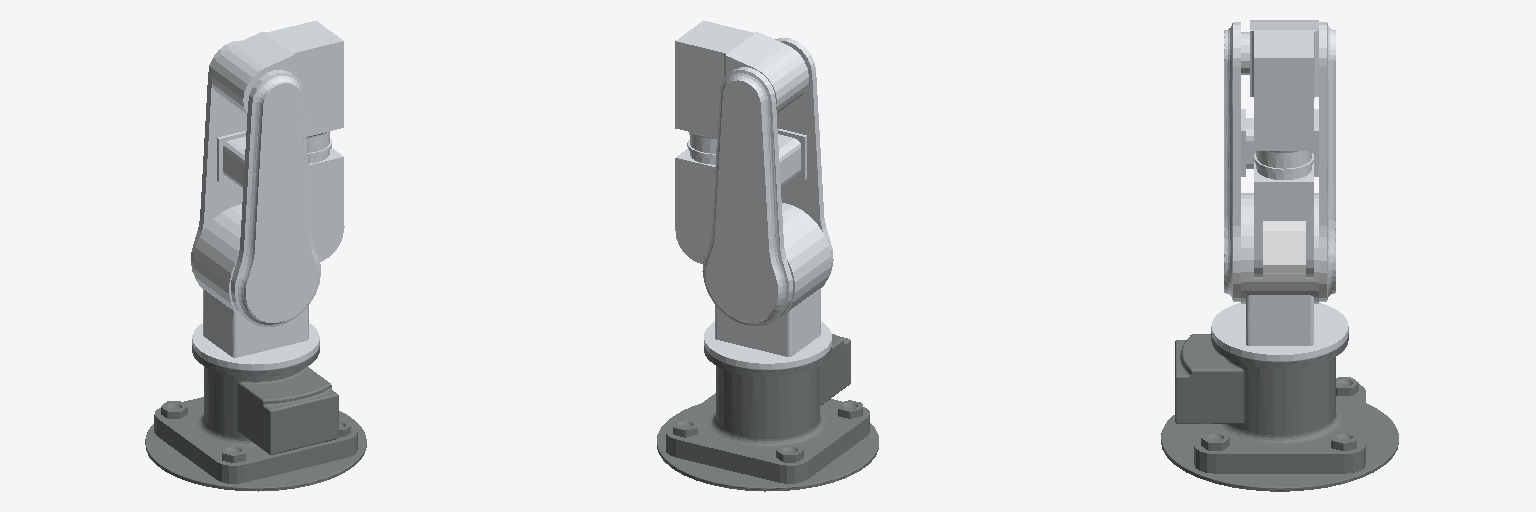
URDF robot description (assembly):
<?xml version="1.0" encoding="utf-8"?>
<!-- This URDF was automatically created by SolidWorks to URDF Exporter! Originally created by [author] ([email redacted]) 
     Commit Version: 1.6.0-4-g7f85cfe  Build Version: 1.6.7995.38578
     For more information, please see http://wiki.ros.org/sw_urdf_exporter -->
<robot
  name="assembly">
  <link name="world"/>
    <joint name="base_joint" type="fixed">
    <parent link="world"/>
    <child link="base_link"/>
    <origin rpy="0 0 0" xyz="0.0 0.0 0.17"/>
  </joint>
  <link
    name="base_link">
    <inertial>
      <origin
        xyz="7.28821085427267E-09 -0.0312986108746524 0.0932096931732312"
        rpy="0 0 0" />
      <mass
        value="156.384128910965" />
      <inertia
        ixx="3.31161275817224"
        ixy="1.76037861498254E-07"
        ixz="4.56149719410909E-07"
        iyy="2.65331734095352"
        iyz="0.319657739922467"
        izz="3.8905939609168" />
    </inertial>
    <visual>
      <origin
        xyz="0 0 0"
        rpy="0 0 0" />
      <geometry>
        <mesh
          filename="package://assembly/meshes/base_link.STL" />
      </geometry>
      <material
        name="">
        <color
          rgba="0.529411764705882 0.549019607843137 0.549019607843137 1" />
      </material>
    </visual>
    <collision>
      <origin
        xyz="0 0 0"
        rpy="0 0 0" />
      <geometry>
        <mesh
          filename="package://assembly/meshes/base_link.STL" />
      </geometry>
    </collision>
  </link>
  <link
    name="link_1">
    <inertial>
      <origin
        xyz="1.56254648109311E-10 -7.8860200028437E-16 0.373075746734315"
        rpy="0 0 0" />
      <mass
        value="39.1896246119642" />
      <inertia
        ixx="0.759744390185537"
        ixy="-3.39614758921302E-09"
        ixz="3.42502037078622E-09"
        iyy="0.831766902274228"
        iyz="-5.07622894875523E-17"
        izz="0.295622833052641" />
    </inertial>
    <visual>
      <origin
        xyz="0 0 0"
        rpy="0 0 0" />
      <geometry>
        <mesh
          filename="package://assembly/meshes/link_1.STL" />
      </geometry>
      <material
        name="">
        <color
          rgba="0.898039215686275 0.917647058823529 0.929411764705882 1" />
      </material>
    </visual>
    <collision>
      <origin
        xyz="0 0 0"
        rpy="0 0 0" />
      <geometry>
        <mesh
          filename="package://assembly/meshes/link_1.STL" />
      </geometry>
    </collision>
  </link>
  <joint
    name="joint_1"
    type="revolute">
    <origin
      xyz="0 0 0"
      rpy="0 0 0" />
    <parent
      link="base_link" />
    <child
      link="link_1" />
    <axis
      xyz="0 0 1" />
    <limit
      lower="-3.142"
      upper="3.142"
      effort="300"
      velocity="3" />
  </joint>
  <link
    name="link_2">
    <inertial>
      <origin
        xyz="0 0.191560014270782 -4.38296331717335E-18"
        rpy="0 0 0" />
      <mass
        value="41.7432461481157" />
      <inertia
        ixx="1.9310205220817"
        ixy="-1.83315611639491E-16"
        ixz="4.05786478180328E-12"
        iyy="0.423793811309006"
        iyz="7.07949256278302E-17"
        izz="1.67596873799866" />
    </inertial>
    <visual>
      <origin
        xyz="0 0 0"
        rpy="0 0 0" />
      <geometry>
        <mesh
          filename="package://assembly/meshes/link_2.STL" />
      </geometry>
      <material
        name="">
        <color
          rgba="0.898039215686275 0.917647058823529 0.929411764705882 1" />
      </material>
    </visual>
    <collision>
      <origin
        xyz="0 0 0"
        rpy="0 0 0" />
      <geometry>
        <mesh
          filename="package://assembly/meshes/link_2.STL" />
      </geometry>
    </collision>
  </link>
  <joint
    name="joint_2"
    type="revolute">
    <origin
      xyz="0 0 0.496"
      rpy="1.5708 0 0" />
    <parent
      link="link_1" />
    <child
      link="link_2" />
    <axis
      xyz="0 0 1" />
    <limit
      lower="-1.57"
      upper="1.57"
      effort="200"
      velocity="3" />
  </joint>
  <link
    name="link_3">
    <inertial>
      <origin
        xyz="0.121182198441889 -0.136185998839769 -0.0100000000304142"
        rpy="0 0 0" />
      <mass
        value="32.5621952947336" />
      <inertia
        ixx="0.913688737120272"
        ixy="0.107723690437499"
        ixz="-1.2469518478925E-09"
        iyy="0.203128735188212"
        iyz="-2.19257304101205E-11"
        izz="1.00099194800661" />
    </inertial>
    <visual>
      <origin
        xyz="0 0 0"
        rpy="0 0 0" />
      <geometry>
        <mesh
          filename="package://assembly/meshes/link_3.STL" />
      </geometry>
      <material
        name="">
        <color
          rgba="0.898039215686275 0.917647058823529 0.929411764705882 1" />
      </material>
    </visual>
    <collision>
      <origin
        xyz="0 0 0"
        rpy="0 0 0" />
      <geometry>
        <mesh
          filename="package://assembly/meshes/link_3.STL" />
      </geometry>
    </collision>
  </link>
  <joint
    name="joint_3"
    type="revolute">
    <origin
      xyz="0 0.5 0"
      rpy="0 0 0" />
    <parent
      link="link_2" />
    <child
      link="link_3" />
    <axis
      xyz="0 0 1" />
    <limit
      lower="-3.142"
      upper="0"
      effort="200"
      velocity="3" />
  </joint>
  <link
    name="link_4">
    <inertial>
      <origin
        xyz="4.894E-08 0.023871 0.01"
        rpy="0 0 0" />
      <mass
        value="2.1294" />
      <inertia
        ixx="0.01124"
        ixy="-3.2865E-09"
        ixz="2.2564E-09"
        iyy="0.0038688"
        iyz="8.7078E-11"
        izz="0.012163" />
    </inertial>
    <visual>
      <origin
        xyz="0 0 0"
        rpy="0 0 0" />
      <geometry>
        <mesh
          filename="package://assembly/meshes/link_4.STL" />
      </geometry>
      <material
        name="">
        <color
          rgba="1 1 1 1" />
      </material>
    </visual>
    <collision>
      <origin
        xyz="0 0 0"
        rpy="0 0 0" />
      <geometry>
        <mesh
          filename="package://assembly/meshes/link_4.STL" />
      </geometry>
    </collision>
  </link>
  <joint
    name="joint_4"
    type="revolute">
    <origin
      xyz="0.145 -0.42746 0"
      rpy="3.1416 0 -1.2438" />
    <parent
      link="link_3" />
    <child
      link="link_4" />
    <axis
      xyz="0 0 1" />
    <limit
      lower="-3.142"
      upper="0"
      effort="200"
      velocity="3" />
  </joint>

  <transmission name="link_1_trans">
    <type>transmission_interface/SimpleTransmission</type>
    <joint name="joint_1">
      <hardwareInterface>hardware_interface/PositionJointInterface</hardwareInterface>
    </joint>
    <actuator name="link_1_motor">
      <hardwareInterface>hardware_interface/PositionJointInterface</hardwareInterface>
      <mechanicalReduction>1</mechanicalReduction>
    </actuator>
  </transmission>

  <transmission name="link_2_trans">
    <type>transmission_interface/SimpleTransmission</type>
    <joint name="joint_2">
      <hardwareInterface>hardware_interface/PositionJointInterface</hardwareInterface>
    </joint>
    <actuator name="link_2_motor">
      <hardwareInterface>hardware_interface/PositionJointInterface</hardwareInterface>
      <mechanicalReduction>1</mechanicalReduction>
    </actuator>
  </transmission>

  <transmission name="link_3_trans">
    <type>transmission_interface/SimpleTransmission</type>
    <joint name="joint_3">
      <hardwareInterface>hardware_interface/PositionJointInterface</hardwareInterface>
    </joint>
    <actuator name="link_3_motor">
      <hardwareInterface>hardware_interface/PositionJointInterface</hardwareInterface>
      <mechanicalReduction>1</mechanicalReduction>
    </actuator>
  </transmission>

  <transmission name="link_4_trans">
    <type>transmission_interface/SimpleTransmission</type>
    <joint name="joint_4">
      <hardwareInterface>hardware_interface/PositionJointInterface</hardwareInterface>
    </joint>
    <actuator name="link_4_motor">
      <hardwareInterface>hardware_interface/PositionJointInterface</hardwareInterface>
      <mechanicalReduction>1</mechanicalReduction>
    </actuator>
  </transmission>  

<!-- Paso 5 -->
  <gazebo>
    <plugin 
      name="control"
      filename="libgazebo_ros_control.so">
      <robotNamespace>/</robotNamespace>
    </plugin>
  </gazebo>

<!-- Paso 6 -->

  <gazebo reference="link_1">
    <selfCollide>true</selfCollide>
  </gazebo>

  <gazebo reference="link_2">
    <selfCollide>true</selfCollide>
  </gazebo>

  <gazebo reference="link_3">
    <selfCollide>true</selfCollide>
  </gazebo>

  <gazebo reference="link_4">
    <selfCollide>true</selfCollide>
  </gazebo>

</robot>

--- Facts derived from the render (not from the file) ---
The picture shows the robot from 3 angles, left to right: view 1: azimuth 30°, elevation 25°; view 2: azimuth 150°, elevation 25°; view 3: azimuth 270°, elevation 25°; orthographic projection.
Robot: assembly — 6 links, 5 joints (4 revolute, 1 fixed); root link world; default pose: every joint at zero.
Visible links, largest first — view 1: link_2, base_link, link_3, link_1; view 2: link_2, base_link, link_3, link_1; view 3: base_link, link_3, link_2, link_1, link_4.
Link boxes in pixels (x1=…): link_2: x1=191, y1=40, x2=320, y2=326; base_link: x1=145, y1=345, x2=366, y2=491; link_3: x1=211, y1=21, x2=343, y2=261; link_1: x1=192, y1=204, x2=319, y2=369; link_2: x1=702, y1=38, x2=833, y2=325; base_link: x1=657, y1=334, x2=878, y2=491; link_3: x1=675, y1=20, x2=808, y2=263; link_1: x1=704, y1=203, x2=831, y2=369; base_link: x1=1161, y1=333, x2=1398, y2=491; link_3: x1=1250, y1=20, x2=1318, y2=278; link_2: x1=1224, y1=22, x2=1335, y2=301; link_1: x1=1211, y1=193, x2=1348, y2=360; link_4: x1=1263, y1=221, x2=1305, y2=273.
Bounding box of the posed robot: 0.555 × 0.555 × 1.09 m (x, y, z).
5 mesh visuals loaded from 5 distinct referenced files (5 binary STL).
